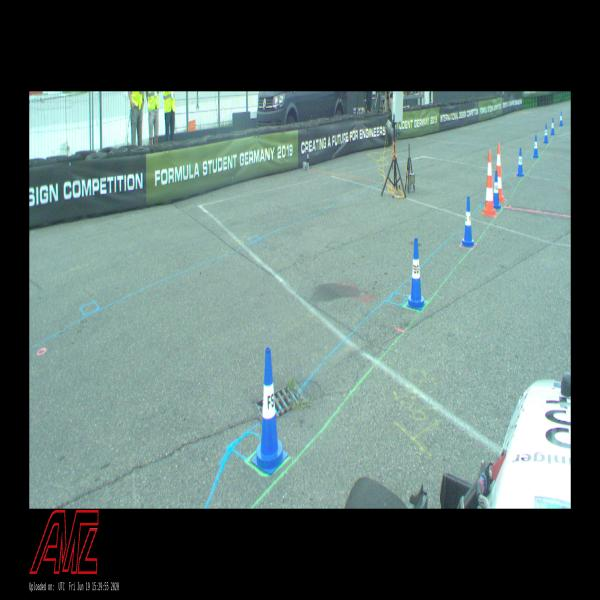blue_cone: (252, 346, 288, 476), (406, 238, 426, 310), (461, 196, 475, 248), (493, 170, 501, 210), (517, 147, 524, 177), (533, 134, 539, 158), (543, 124, 549, 143), (550, 118, 555, 136), (559, 112, 563, 126)
large_orange_cone: (482, 150, 497, 217), (496, 143, 505, 202)
